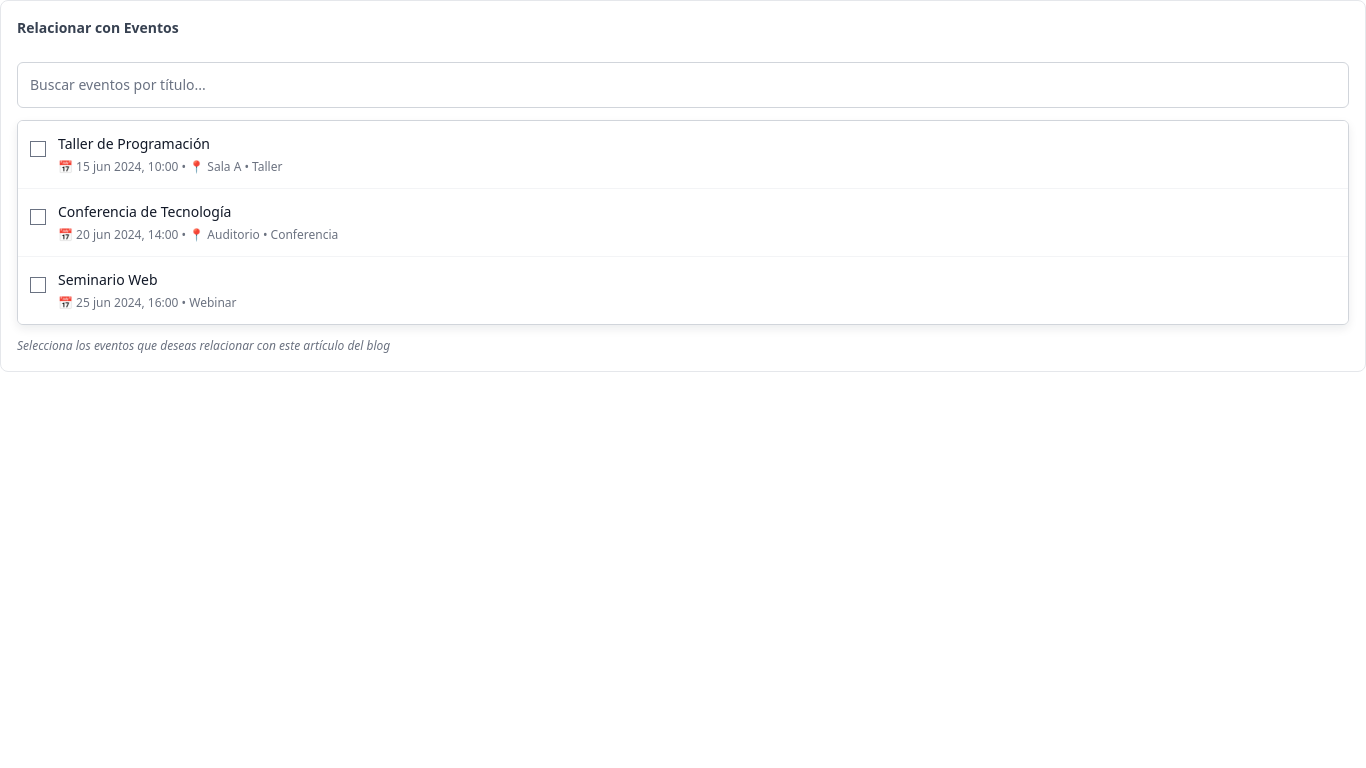
Test: BlogEventRelation › Event Selection › should toggle event selection when clicked
Expected: the text "Taller de Programación" is shown, [58,134,210,153]
Click the button that starts with "Taller de Programación": (134, 144) [18,121,1348,189]
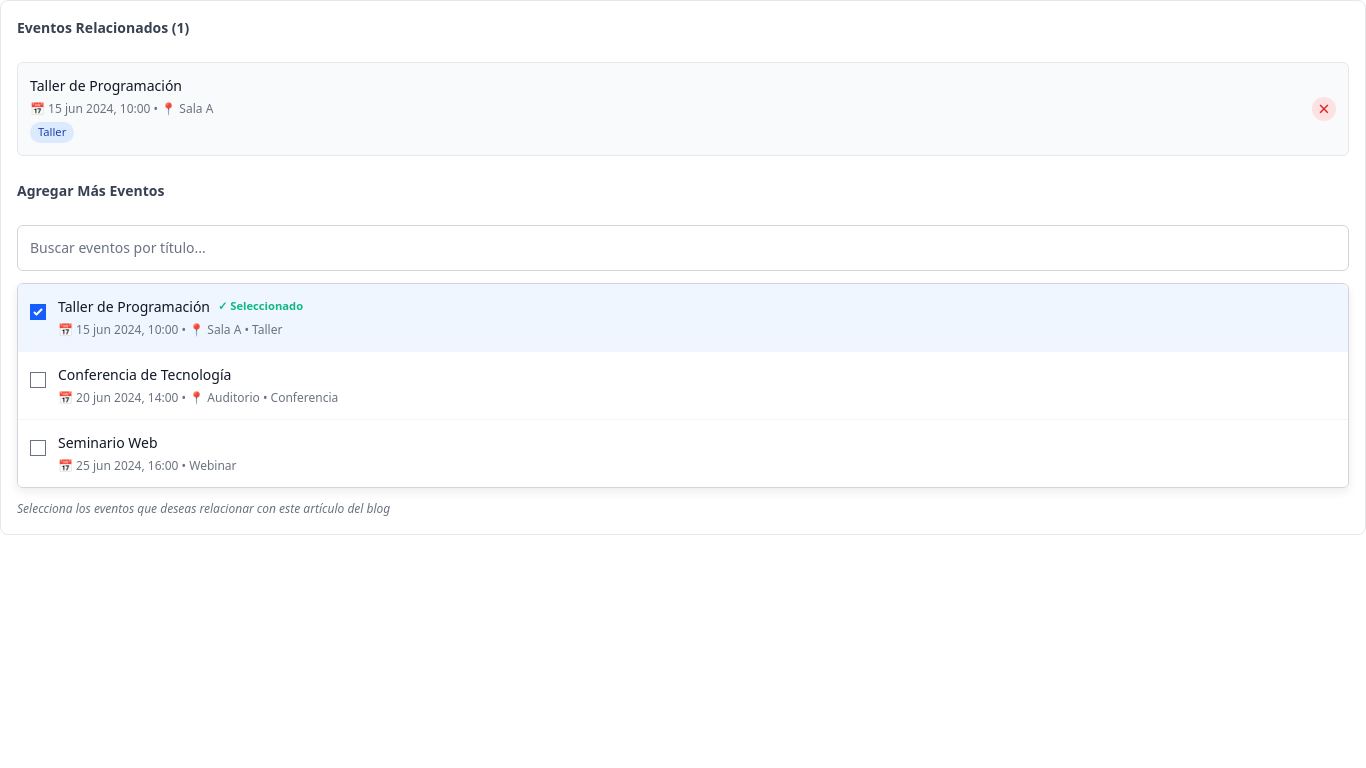
Expected: the heading "Eventos Relacionados (1)" is shown, [17,18,189,37]
